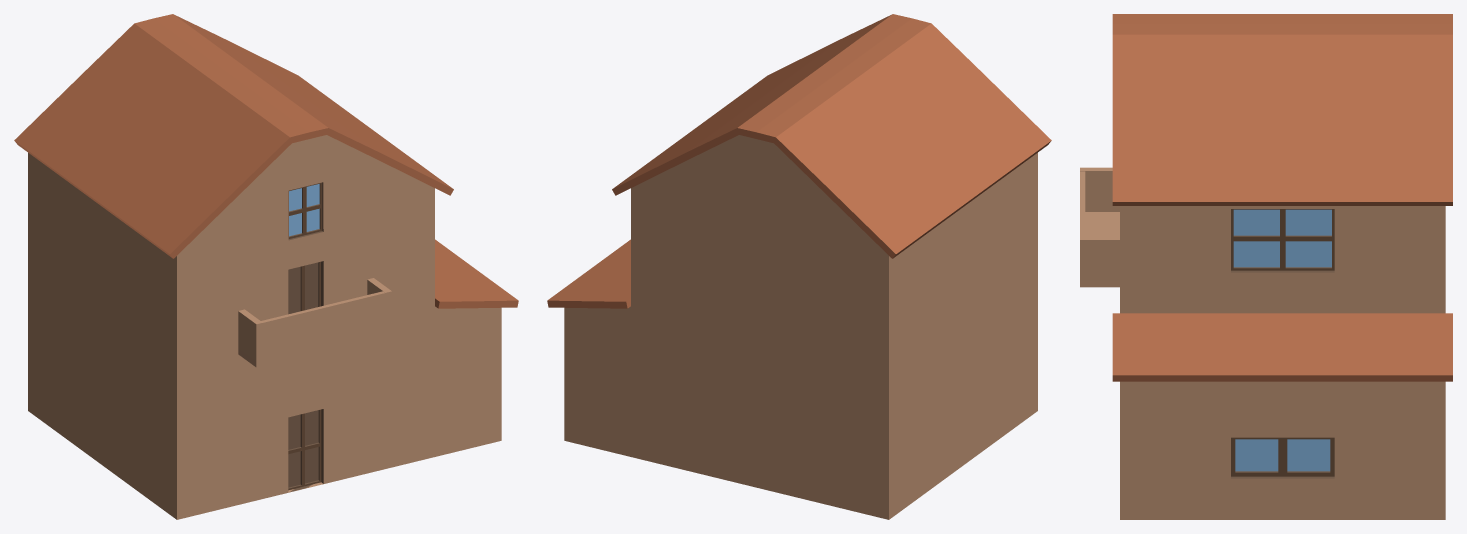
The model's file is House_003.fbx.
3 renders of one model, left to right at view 1: azimuth 30°, elevation 25°; view 2: azimuth 150°, elevation 25°; view 3: azimuth 270°, elevation 25°, orthographic. The views are drawn at different scales.
Parts seen in each view (by area): view 1: House_003; view 2: House_003; view 3: House_003.
Part boxes in pixels (x1,y1,x2,y2): House_003: (14, 14, 518, 519); House_003: (547, 14, 1051, 519); House_003: (1080, 14, 1452, 519).
Size of the model in its own units: 952 by 935 by 806.
